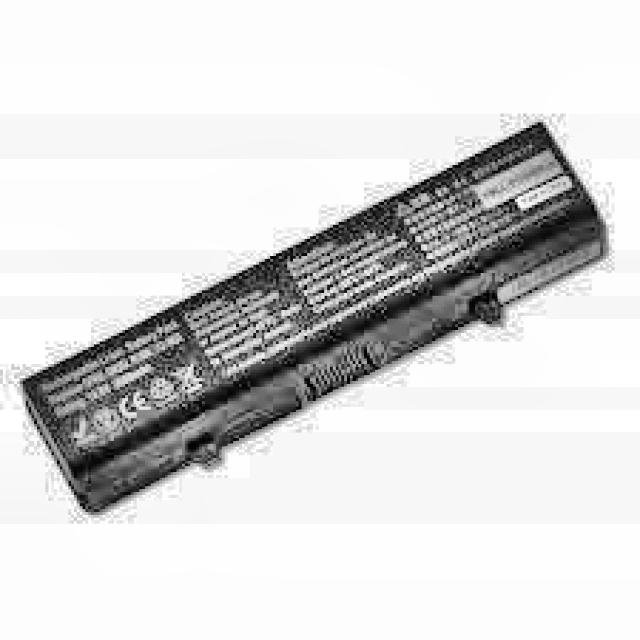Battery: (5, 122, 640, 529)
